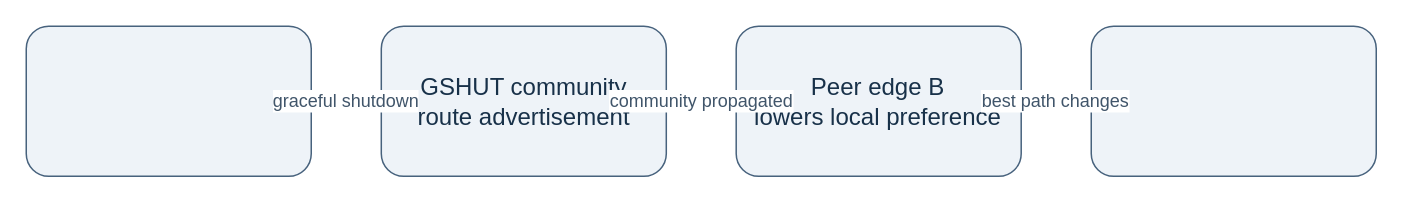
This 1403x203 diagram has some shape labels left out. The centre of each missing label's shape, as x and y in pixels:
"Alternate overlay traffic drains" goes at (x=1233, y=100).
"SD-WAN edge A maintenance initiator" goes at (x=168, y=100).
